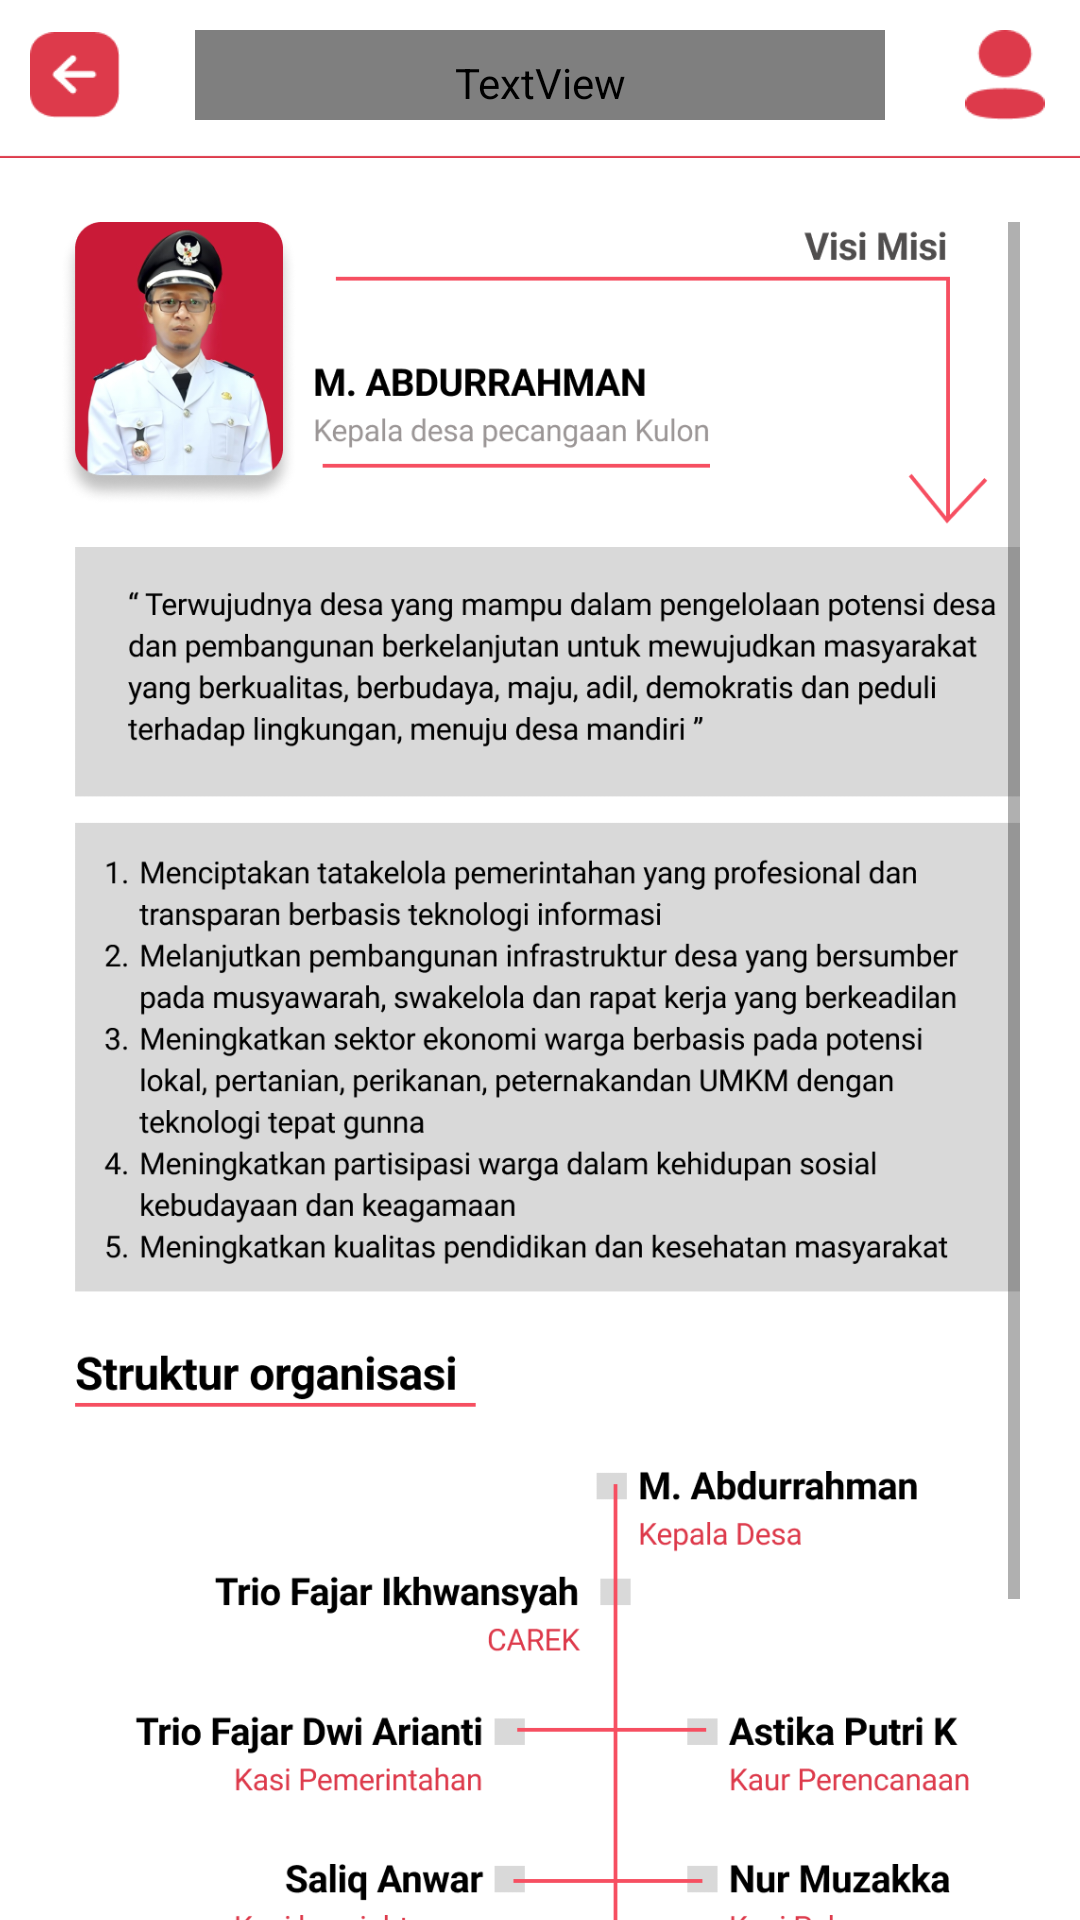

Named icons in this screenshot (1080x1920) and their centers, point (x, y):
iconback: point (74, 75)
iconprofile: point (1005, 75)
